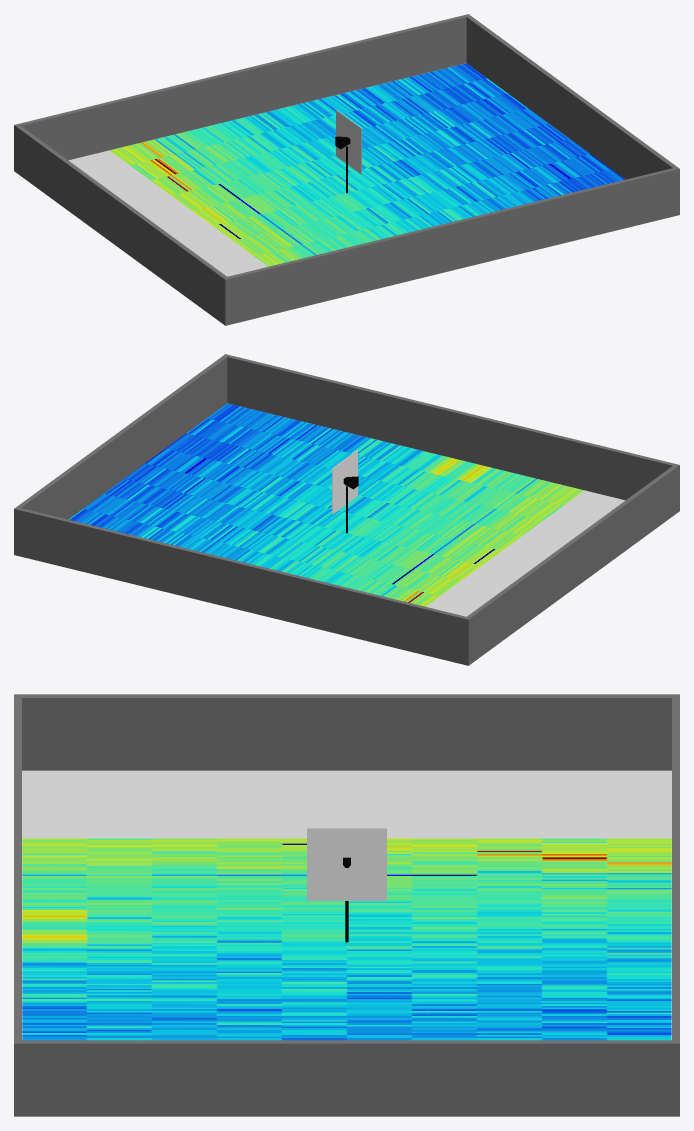
The model's file is room_uv.gltf.
3 renders of one model, top to bottom at view 1: azimuth 30°, elevation 25°; view 2: azimuth 150°, elevation 25°; view 3: azimuth 270°, elevation 25°, orthographic. The views are drawn at different scales.
Parts seen in each view (by area): view 1: Cube.008, Cube.013; view 2: Cube.008, Cube.013; view 3: Cube.008, Cube.013.
Boxes of the visible parts, left/top/right/bottom form: Cube.008: left=14, top=14, right=679, bottom=325; Cube.013: left=336, top=110, right=361, bottom=174; Cube.008: left=14, top=354, right=679, bottom=665; Cube.013: left=332, top=450, right=357, bottom=514; Cube.008: left=14, top=694, right=679, bottom=1116; Cube.013: left=307, top=828, right=386, bottom=900.
Size of the model in its own units: 206 by 31.75 by 166.
Materials: 6 (1 with a texture image).
